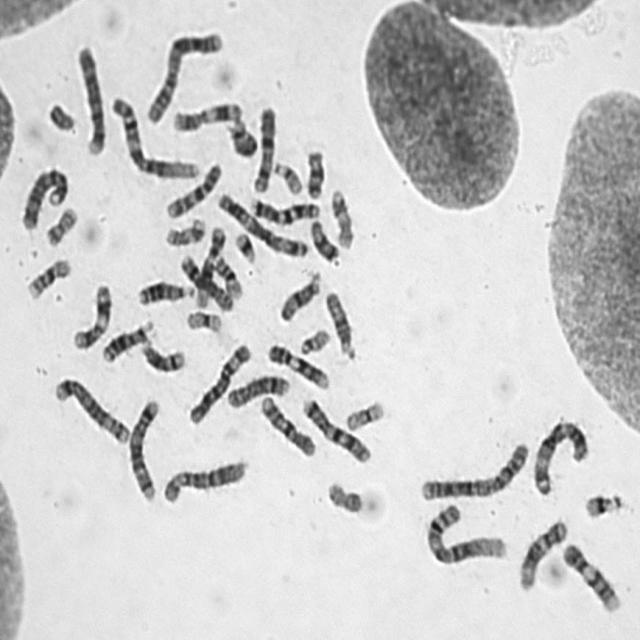A1: (107, 90, 202, 181), (420, 497, 510, 566)
A2: (142, 24, 225, 125), (415, 434, 531, 502)
A3: (211, 185, 311, 259), (528, 411, 591, 497)
B4: (70, 37, 108, 157), (16, 160, 70, 232)
B5: (48, 370, 132, 446), (122, 391, 162, 503)
C10: (255, 388, 318, 458), (161, 156, 225, 220)
C11: (67, 276, 113, 352), (167, 94, 245, 134)
C12: (514, 511, 570, 592), (190, 220, 228, 310)
C6: (184, 336, 254, 426), (157, 452, 248, 506)
C7: (296, 391, 373, 465), (244, 188, 322, 226)
C8: (175, 248, 236, 312), (222, 366, 291, 410)
C9: (557, 535, 622, 614), (262, 337, 332, 391)
D13: (96, 314, 156, 364), (132, 273, 196, 307)
D14: (135, 335, 188, 375)
D15: (274, 264, 323, 324), (320, 284, 358, 360)
E16: (21, 250, 73, 300), (209, 250, 245, 300)
E17: (326, 182, 356, 250), (160, 210, 208, 248)
E18: (306, 212, 341, 264), (300, 142, 327, 200)
F19: (340, 393, 387, 432), (180, 303, 224, 334)
F20: (40, 200, 80, 248), (321, 474, 365, 515)
G21: (579, 484, 623, 520), (230, 224, 258, 264)
G22: (268, 154, 304, 196), (295, 322, 332, 356)
X: (248, 98, 278, 195)
Y: (43, 94, 76, 132)
